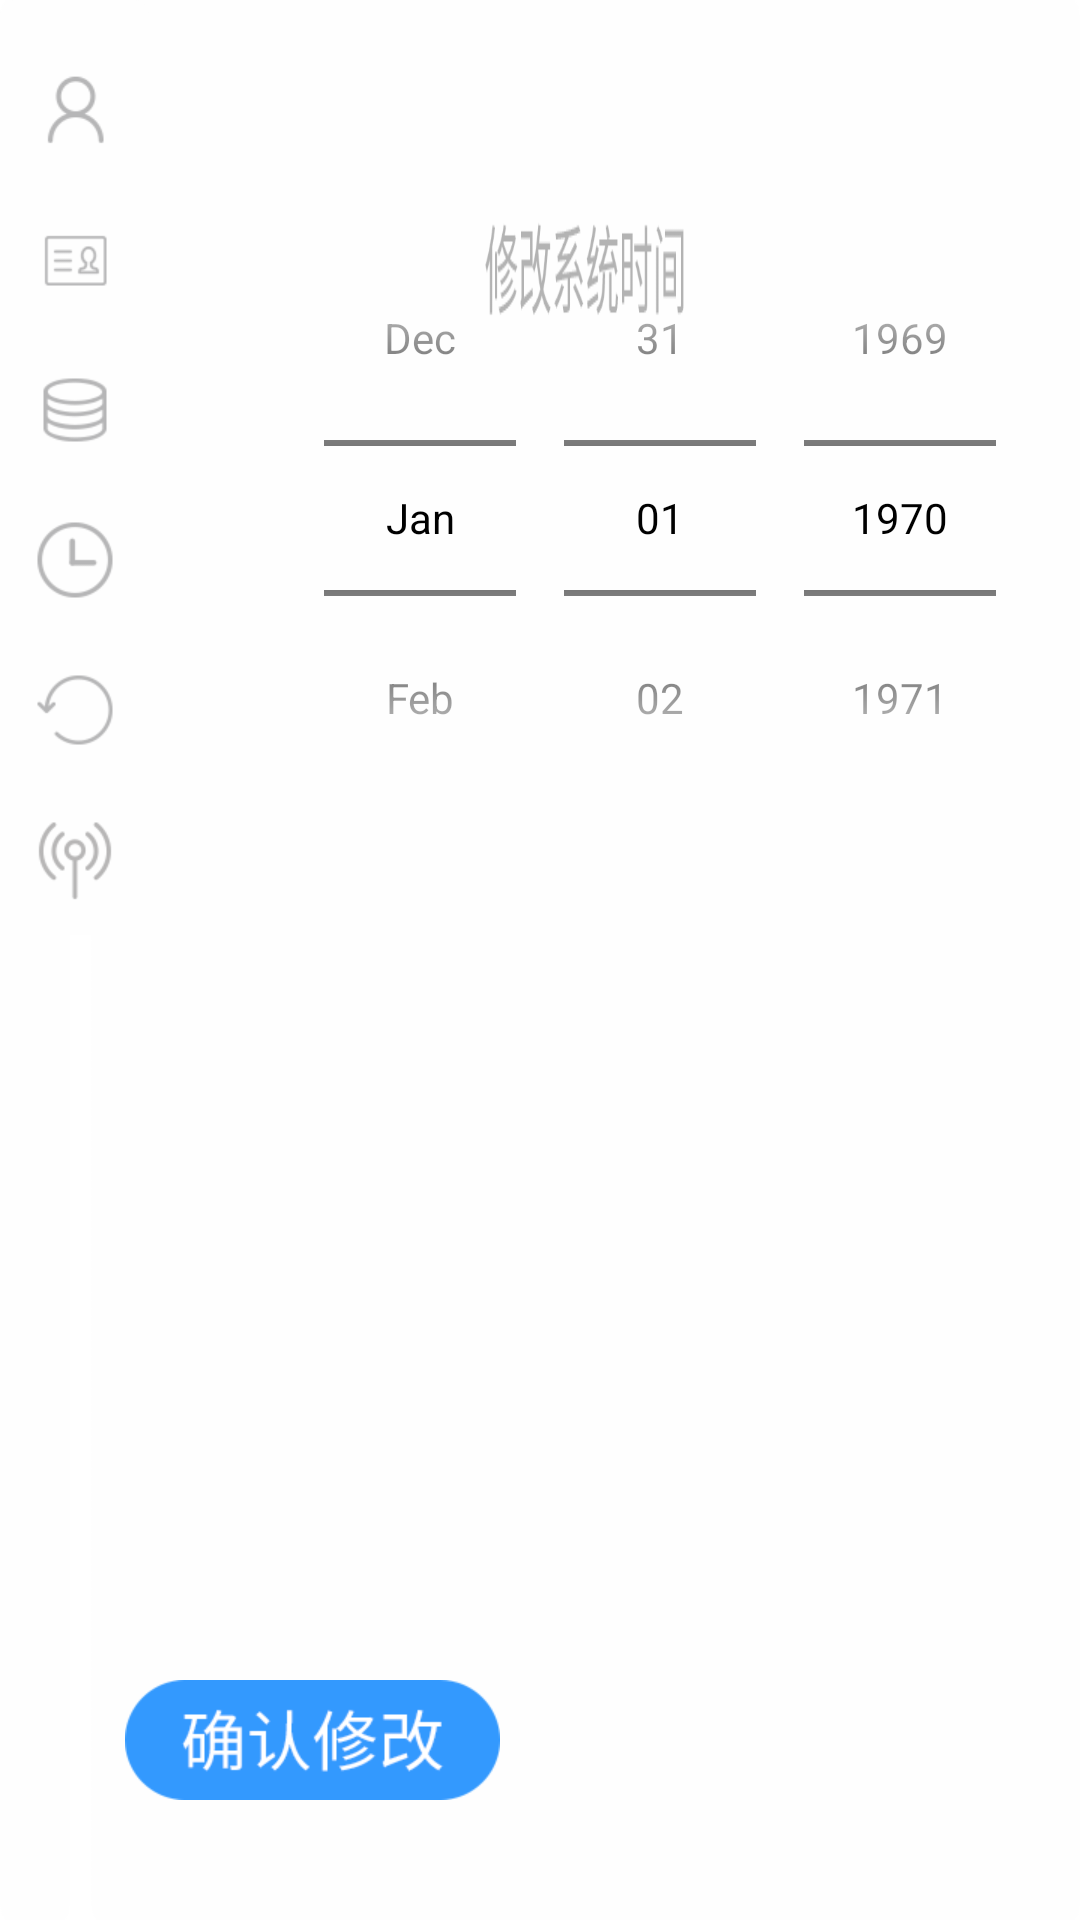

Icons on this 1080px×1920px Android screen, each with the point to tap as [x,y]:
settings tab id: [76,261]
settings tab info: [76,109]
settings tab reset: [75,710]
settings tab stock: [75,410]
settings tab sync: [75,860]
settings tab time: [75,560]
